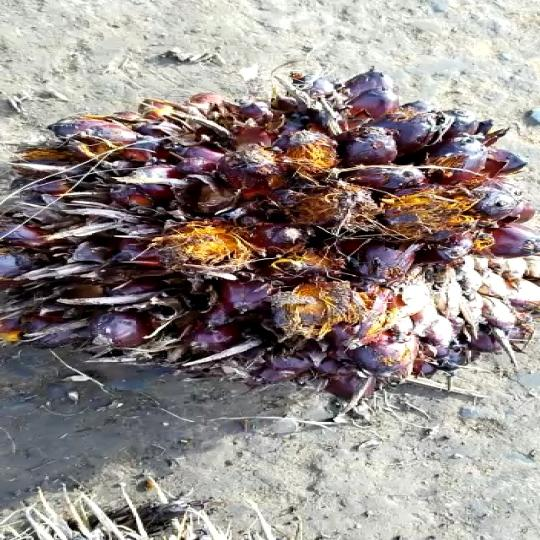masak: (0, 70, 540, 423)
